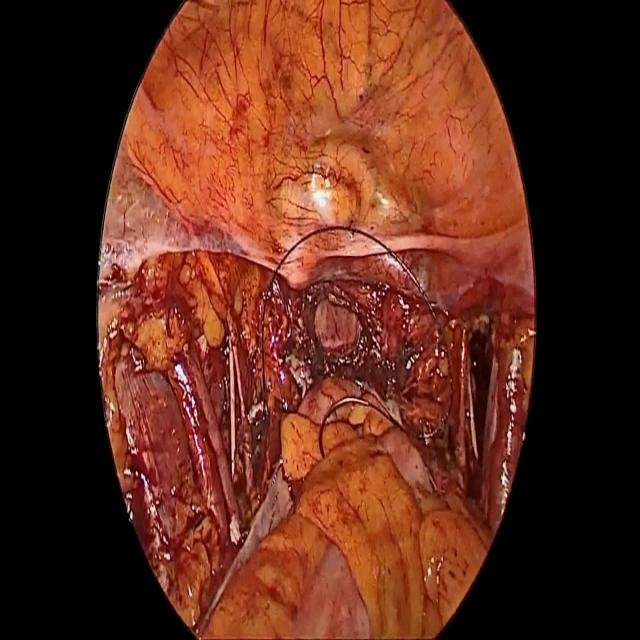surgical-area: (98, 0, 536, 639)
